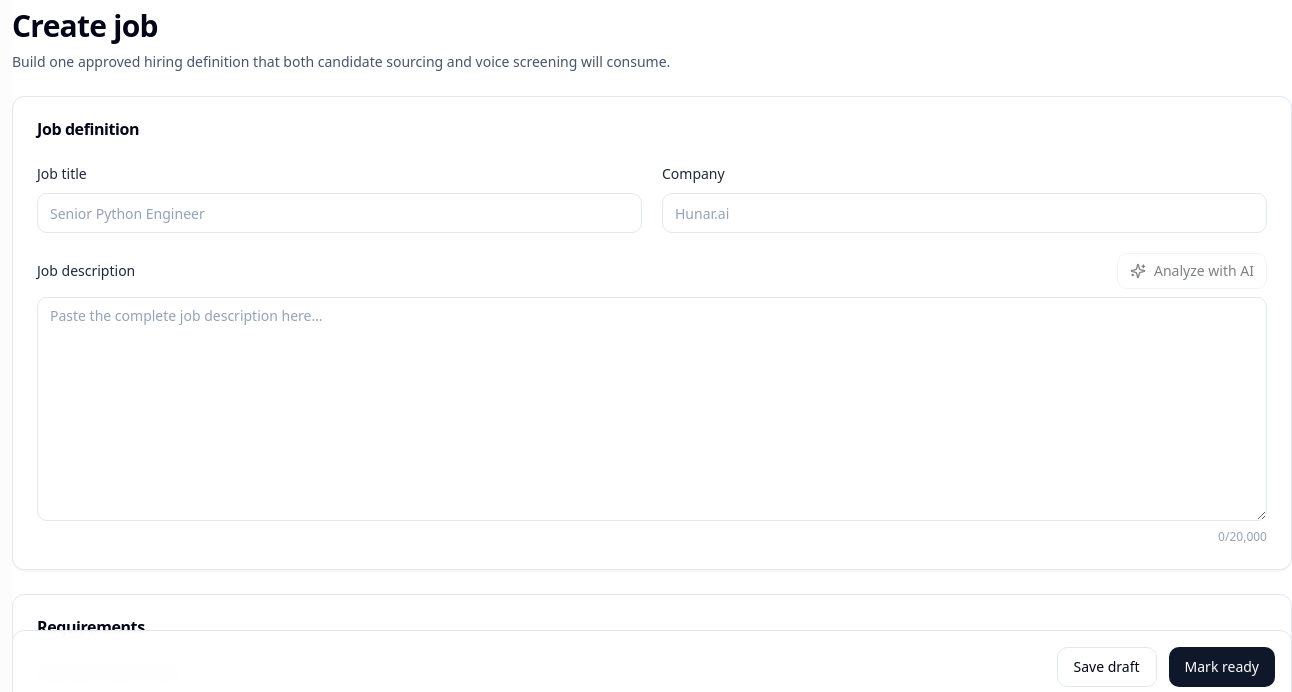
Test case: JobEditor › requires a valid screening question before marking a new job ready
This screenshot has width=1292, height=692.
In the field labelled "Job title": (340, 213) [37,193,642,233], type "Engineer"
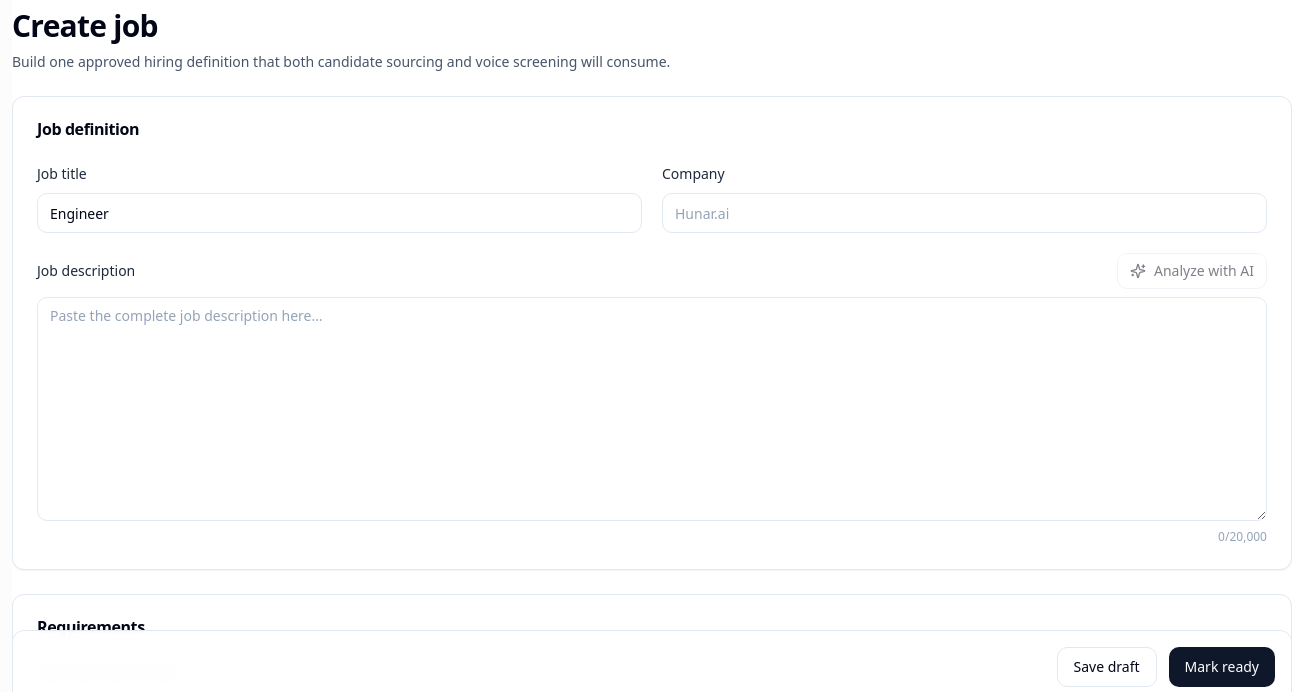
In the text box labelled "Job description": (652, 409) [37,297,1267,521], type "A sufficiently detailed Job Description for this role."
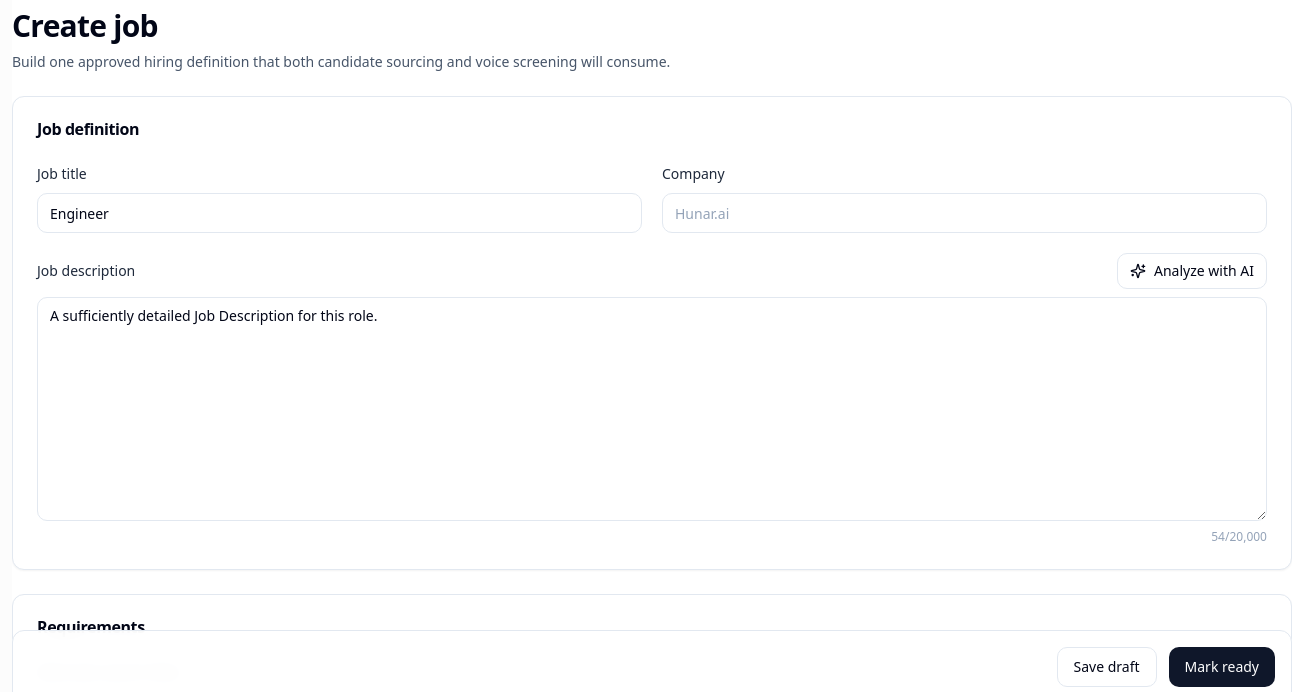
Click the button "Mark ready": click(1222, 667) [1168,647,1275,687]
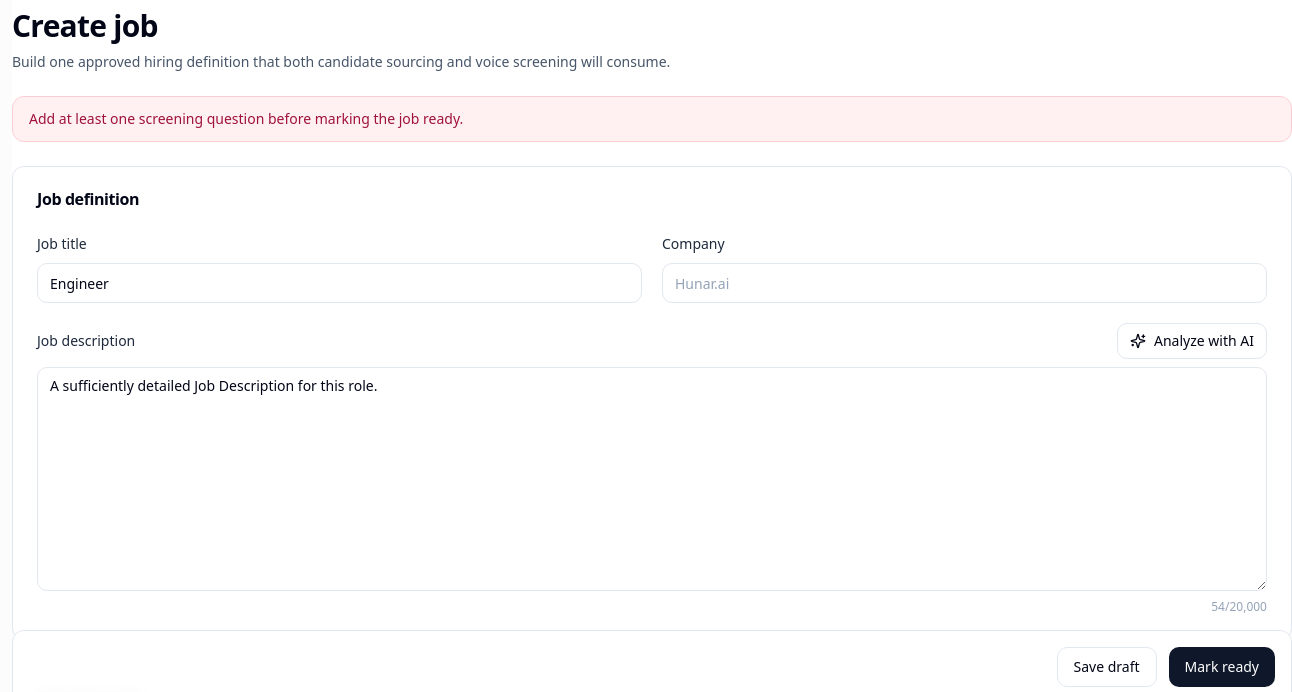
Expected: the message reads "Add at least one screening question before marking the job ready.", [29,109,463,128]
